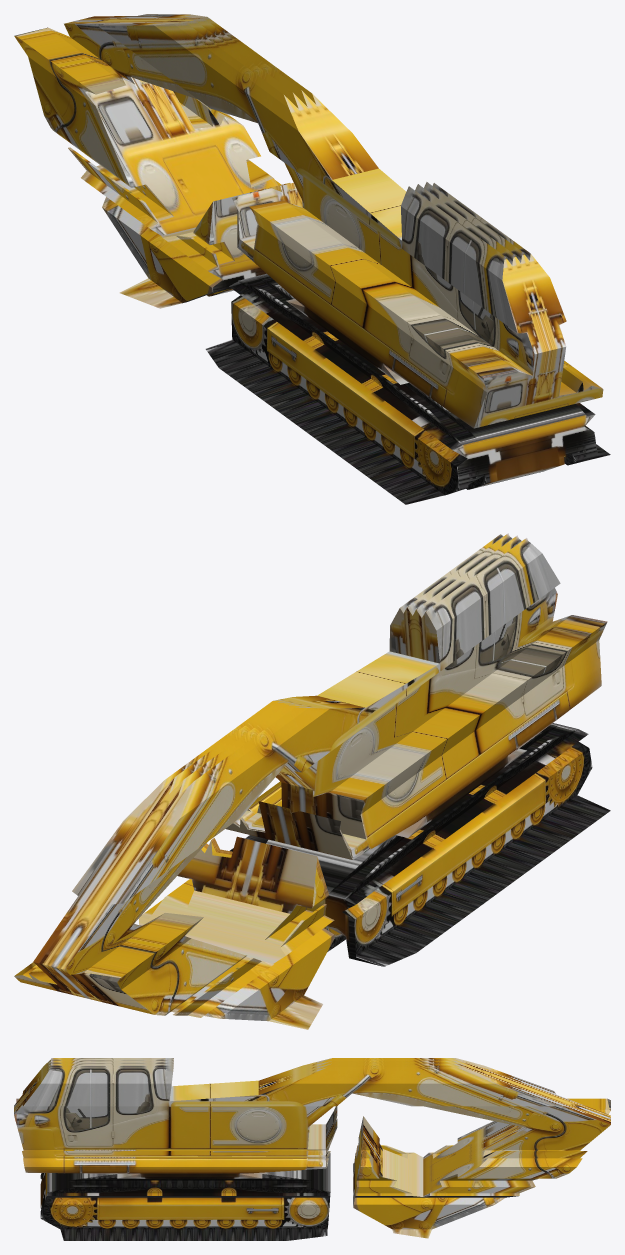
The model's file is excavator.glb.
3 views of the same model, one above another, from view 1: azimuth 30°, elevation 25°; view 2: azimuth 150°, elevation 25°; view 3: azimuth 270°, elevation 25° (orthographic). The views are drawn at different scales.
Parts seen in each view (by area): view 1: excavator; view 2: excavator; view 3: excavator.
Boxes of the visible parts, x1,y1,x2,y2 form: excavator: [14, 14, 610, 504]; excavator: [14, 533, 610, 1029]; excavator: [14, 1058, 610, 1240].
Size of the model in its own units: 2.39 by 2.61 by 9.49.
Materials: 2 (1 with a texture image).
